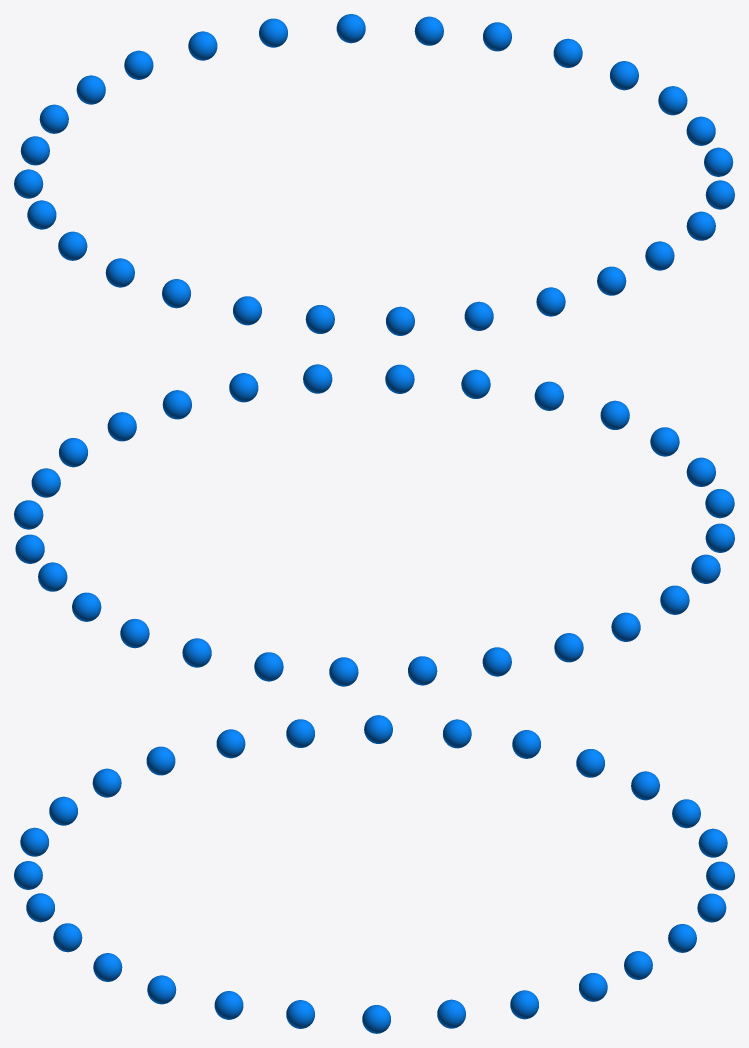
The picture shows the model from 3 angles, top to bottom: view 1: azimuth 30°, elevation 25°; view 2: azimuth 150°, elevation 25°; view 3: azimuth 270°, elevation 25°; orthographic projection.
Visible parts, largest first — view 1: Sphere052; view 2: Sphere052; view 3: Sphere052.
Boxes of the visible parts, bbox=[...] form: Sphere052: bbox=[14, 14, 734, 335]; Sphere052: bbox=[14, 364, 734, 686]; Sphere052: bbox=[14, 715, 734, 1033].
Size of the model in its own units: 203 by 8.22 by 204.
